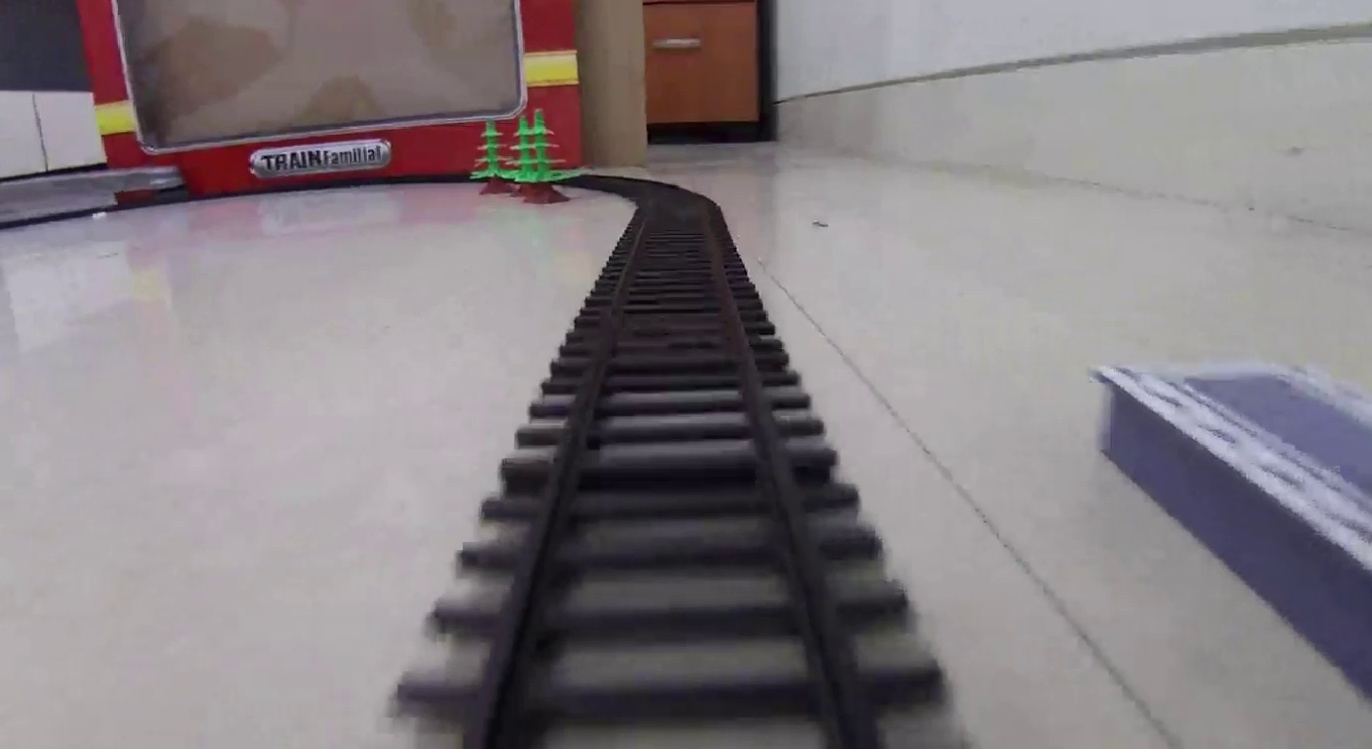tree: (529, 111, 572, 205), (470, 119, 510, 196), (505, 112, 540, 200)
